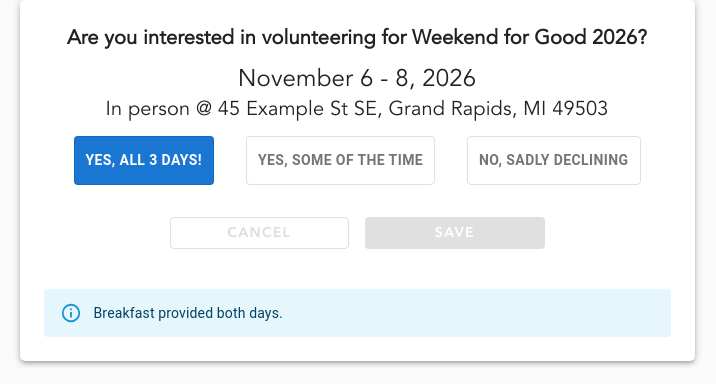
Test: EventCard RSVP › restores the saved RSVP on cancel
Click the button with aria-label "not attending": (554, 160) [467,136,640,185]
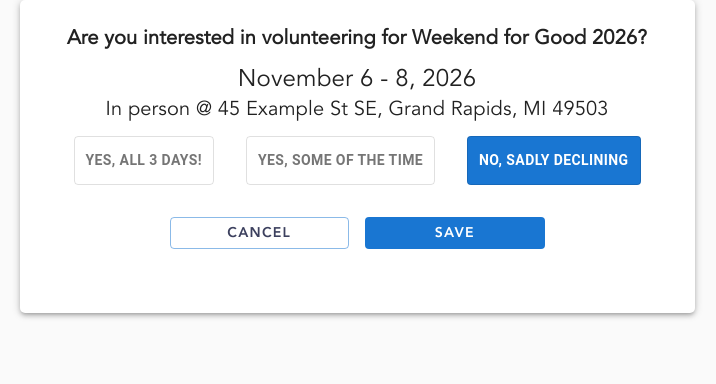
Click the button "Cancel": (259, 233) [170,217,349,249]
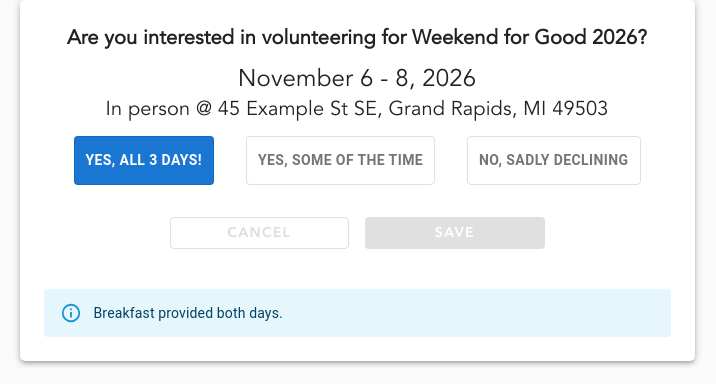
expect the button "Save" is disabled: met, box [365,217,544,249]
